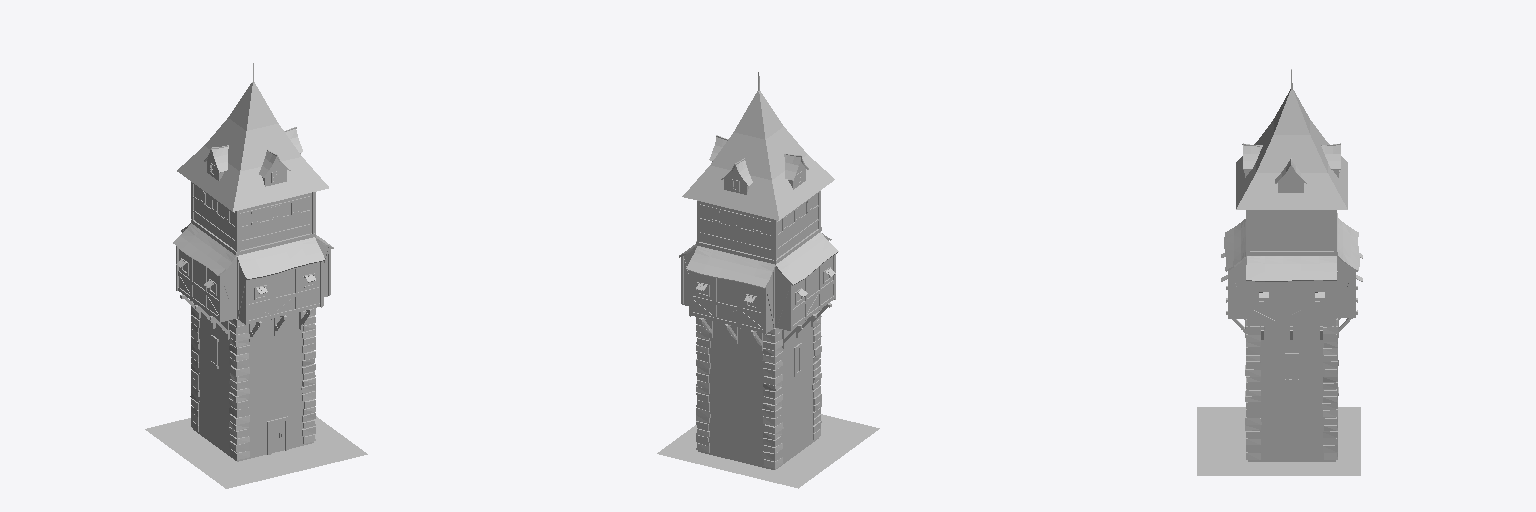
Rendered from tower.obj.
3 views of the same model, side by side, from view 1: azimuth 30°, elevation 25°; view 2: azimuth 150°, elevation 25°; view 3: azimuth 270°, elevation 25° (orthographic).
Visible parts, largest first — view 1: tower; view 2: tower; view 3: tower.
Part boxes in pixels (left/top/right/bottom): tower: left=145, top=63, right=367, bottom=488; tower: left=657, top=72, right=879, bottom=488; tower: left=1197, top=69, right=1362, bottom=475.
Size of the model in its own units: 3.71 by 9.39 by 3.75.